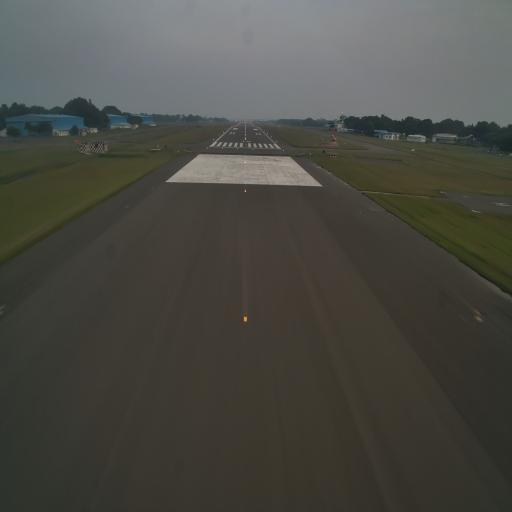off: (473, 304, 484, 328), (0, 299, 7, 319), (358, 206, 363, 218), (123, 202, 130, 210)
on: (243, 313, 248, 326), (244, 187, 248, 195)
